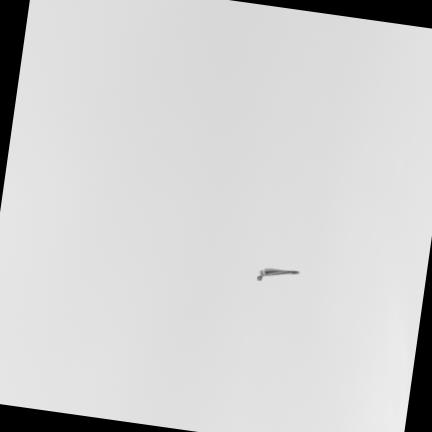Shahed: (255, 267, 299, 281)
